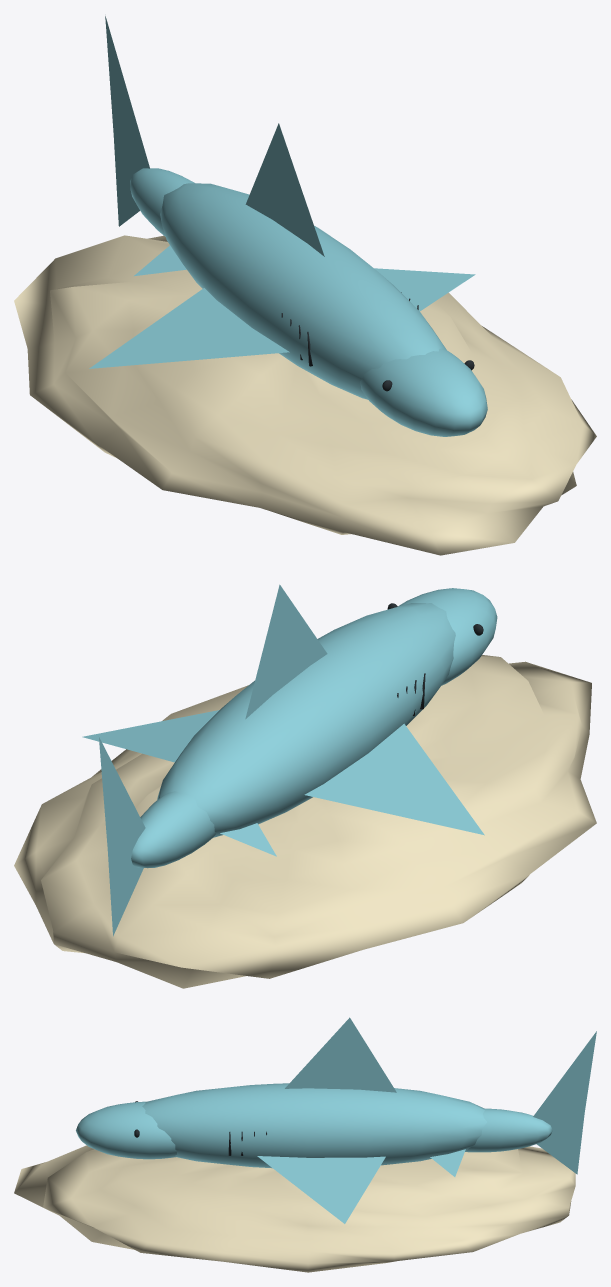
File: underwater-reef-worlds-reef-shark-a82e9a5d__7072.glb
3 renders of one model, top to bottom at view 1: azimuth 30°, elevation 25°; view 2: azimuth 150°, elevation 25°; view 3: azimuth 270°, elevation 25°, orthographic. The views are drawn at different scales.
Visible parts, largest first — view 1: reef-shark; view 2: reef-shark; view 3: reef-shark.
Part boxes in pixels (<box>): reef-shark: <box>14,16,596,555</box>; reef-shark: <box>14,584,596,988</box>; reef-shark: <box>14,1017,596,1272</box>.
Bounding box in the file's own units: 1.4 × 0.83 × 2.38.
